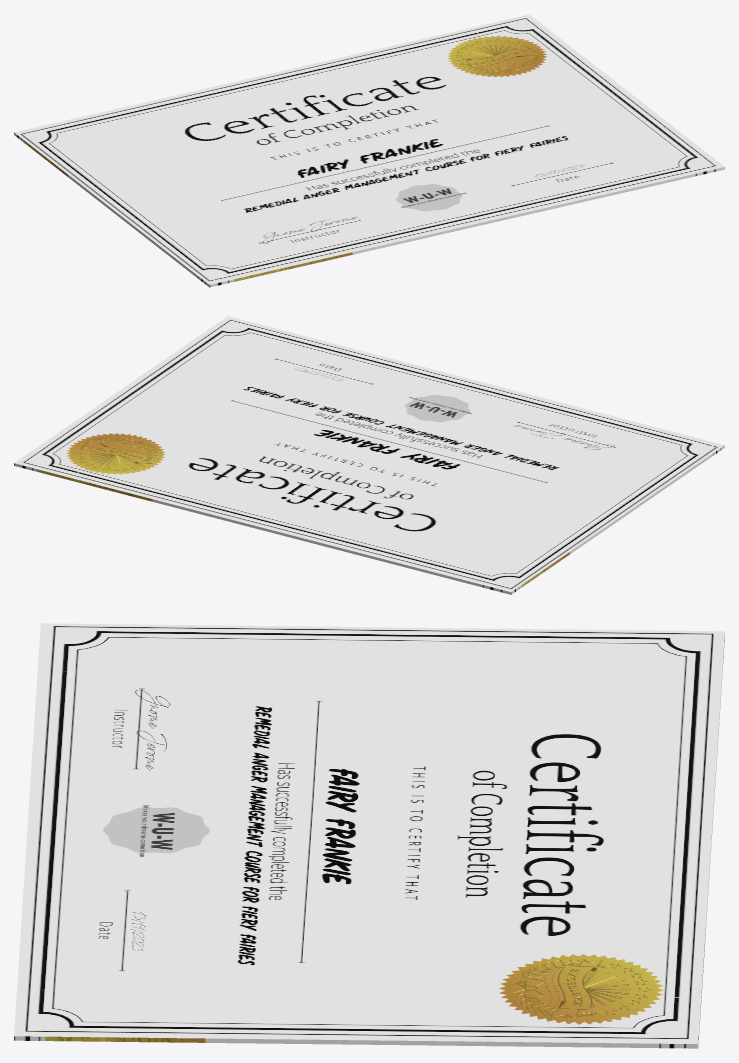
Rendered from CerificateofCompletion.fbx.
3 renders of one model, top to bottom at view 1: azimuth 30°, elevation 25°; view 2: azimuth 150°, elevation 25°; view 3: azimuth 270°, elevation 25°, orthographic. The views are drawn at different scales.
Parts seen in each view (by area): view 1: Incident Report.001; view 2: Incident Report.001; view 3: Incident Report.001.
Boxes of the visible parts, x1,y1,x2,y2 form: Incident Report.001: (14, 14, 724, 287); Incident Report.001: (14, 316, 724, 594); Incident Report.001: (14, 623, 724, 1048).
Size of the model in its own units: 14.22 by 0.0698 by 10.15.
Materials: 1 (1 with a texture image).
